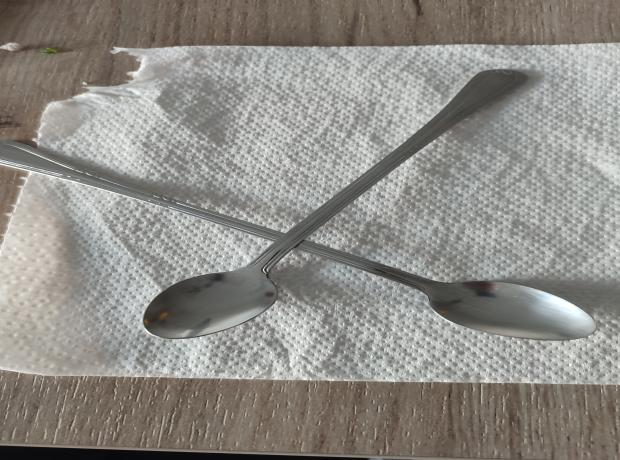metal: (0, 140, 600, 342), (139, 67, 531, 342)
